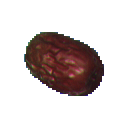gd: (18, 19, 109, 109)
